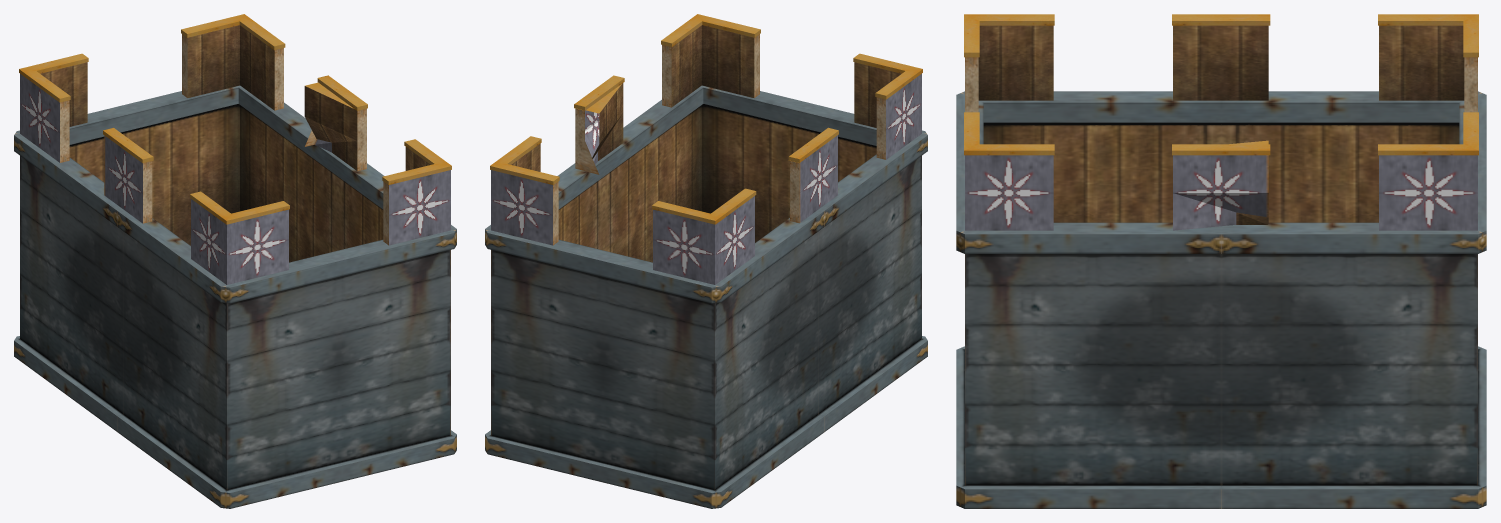
Rendered from cushion_03.dae.
3 views of the same model, side by side, from view 1: azimuth 30°, elevation 25°; view 2: azimuth 150°, elevation 25°; view 3: azimuth 270°, elevation 25° (orthographic). The views are drawn at different scales.
Parts seen in each view (by area): view 1: Howdah_Big; view 2: Howdah_Big; view 3: Howdah_Big.
Boxes of the visible parts, x1=… form: Howdah_Big: x1=14, y1=14, x2=456, y2=508; Howdah_Big: x1=485, y1=14, x2=927, y2=508; Howdah_Big: x1=956, y1=14, x2=1486, y2=508.
Bounding box in the file's own units: 3.29 × 5.15 × 3.81.
